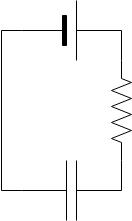Battery: (49, 2, 85, 70)
